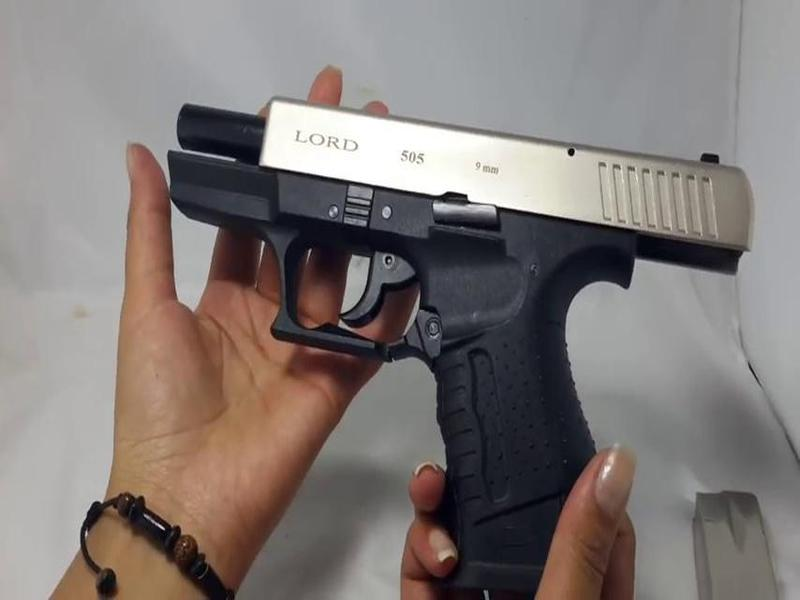Pistola: (166, 86, 731, 600)
